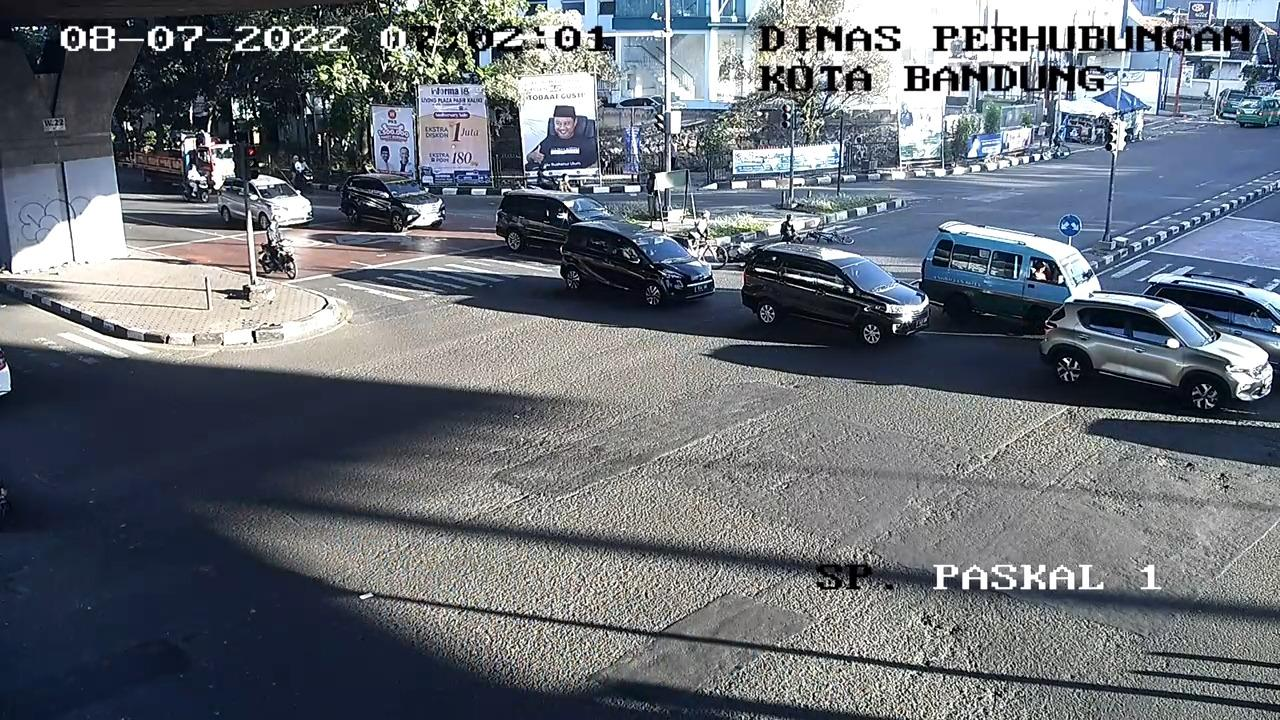accident: (766, 207, 810, 252)
